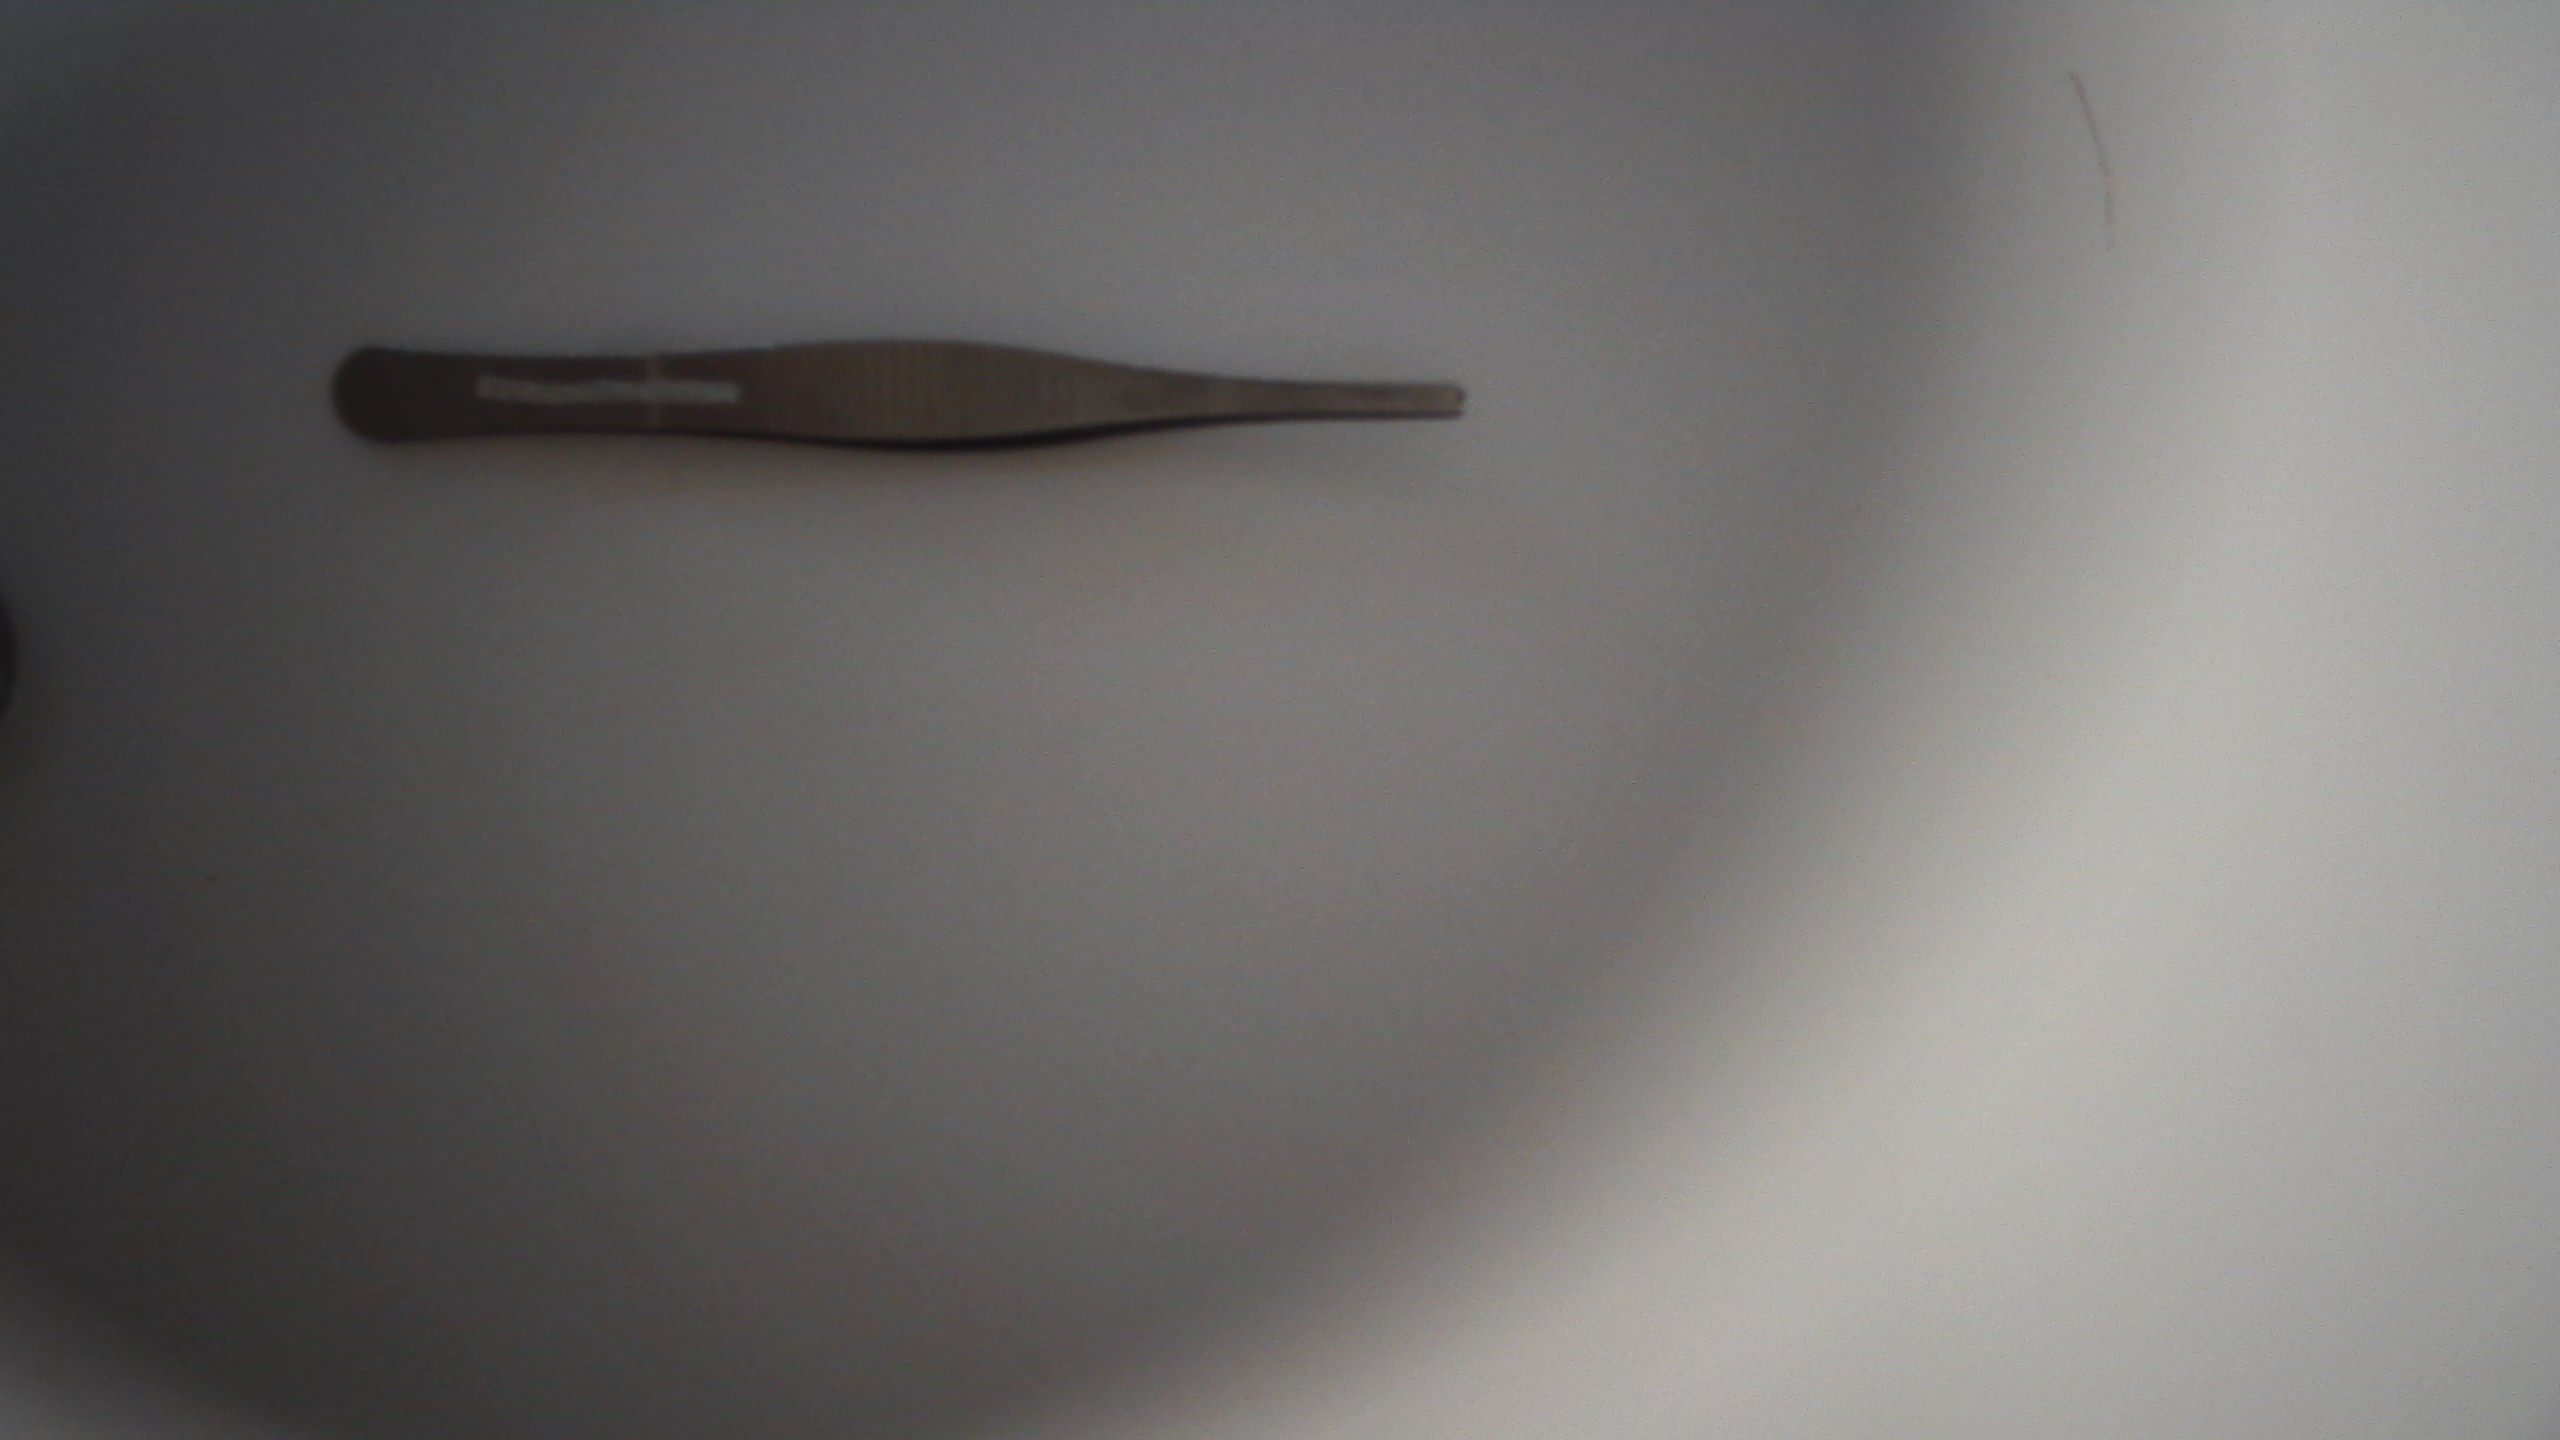Scratches: (441, 366, 745, 411)
